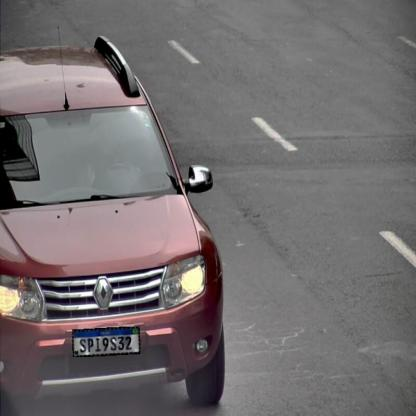PlacaM: (72, 327, 140, 357)
